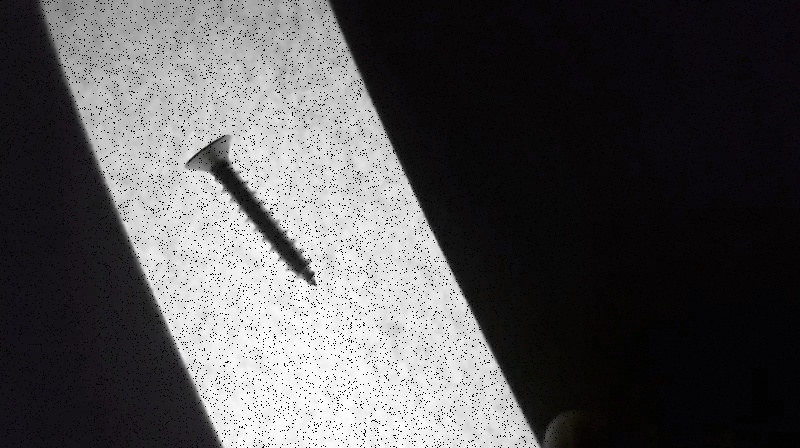S001: (181, 131, 322, 292)
